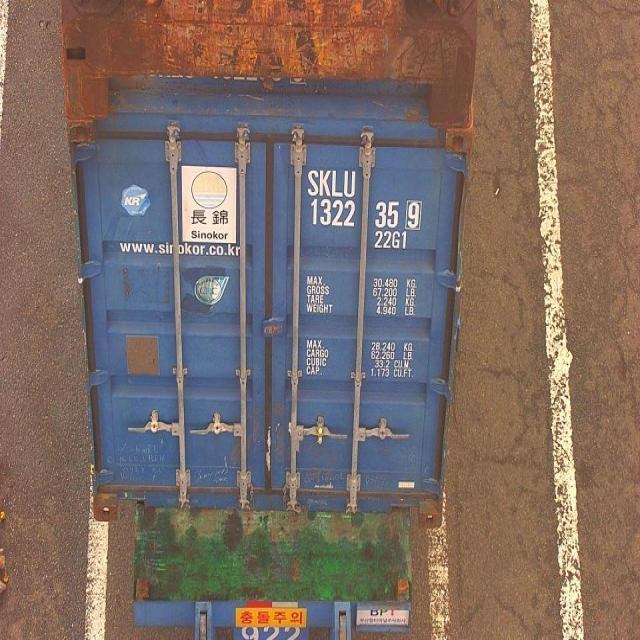ISO: (374, 230, 412, 250)
container_number: (306, 169, 441, 228)
